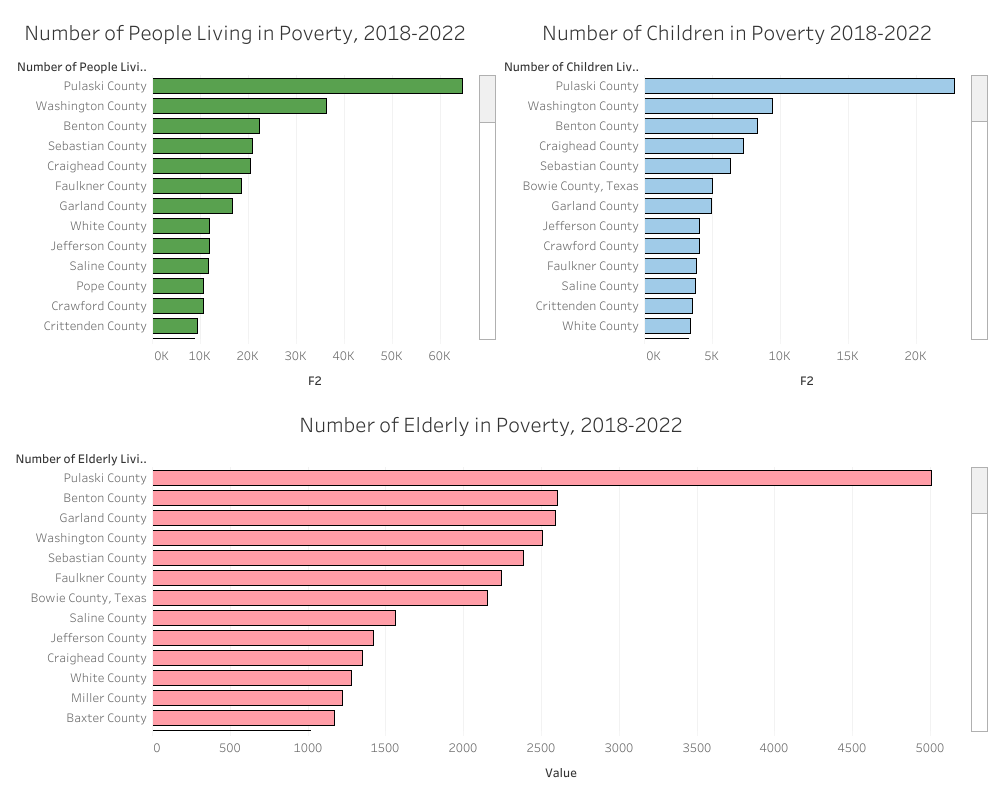

What the dashboard file says about the page in this screenshot:
{"tool":"tableau","page":{"name":"People in Poverty","canvas":[1000,800],"ordinal":2},"visuals":[{"type":"worksheet","title":"Number of People Living in Poverty","mark":"Automatic","rows":["Number of People Living in Poverty"],"cols":["F2"],"box":[8,8,492,392]},{"type":"worksheet","title":"Number of Children in Poverty","mark":"Automatic","rows":["Number of Children Living in Poverty"],"cols":["F2"],"box":[500,8,492,392]},{"type":"worksheet","title":"Sheet 14","mark":"Automatic","rows":["Number of Elderly Living in Poverty"],"box":[8,400,984,392]}]}

Visuals, with their boxes in screenshot pixels (x1, y1, x2, y2), scaled from the page's 1000x800 canvas onto the 999x799 screenshot:
"Number of People Living in Poverty" worksheet: left=8, top=8, right=500, bottom=400
"Number of Children in Poverty" worksheet: left=500, top=8, right=991, bottom=400
"Sheet 14" worksheet: left=8, top=400, right=991, bottom=791
